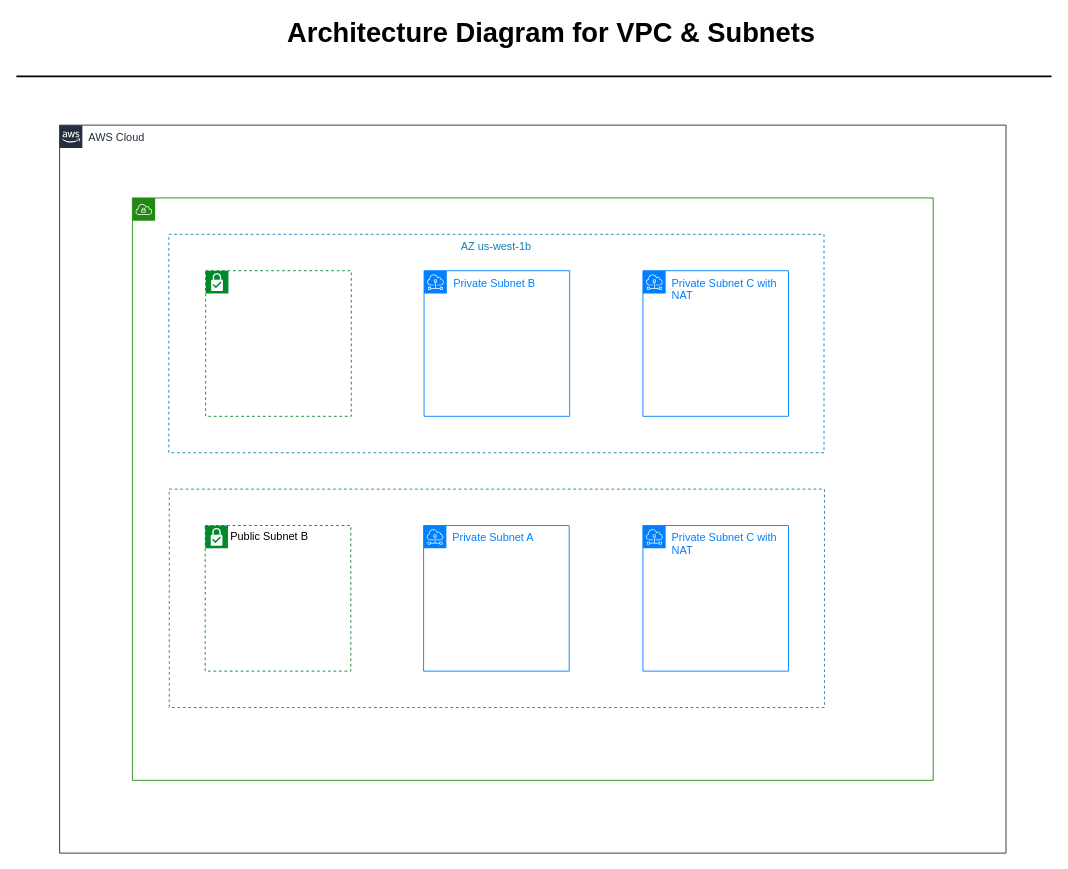
Image size: 1068x869. Some labels were removed from this diagram. The box of each missing label's shape, as (x1, y1, x2, y2) in pixels:
AZ us-west-1c: (168, 488, 824, 708)
Public Subnet A: (205, 270, 351, 416)
VPC: (131, 197, 933, 780)
